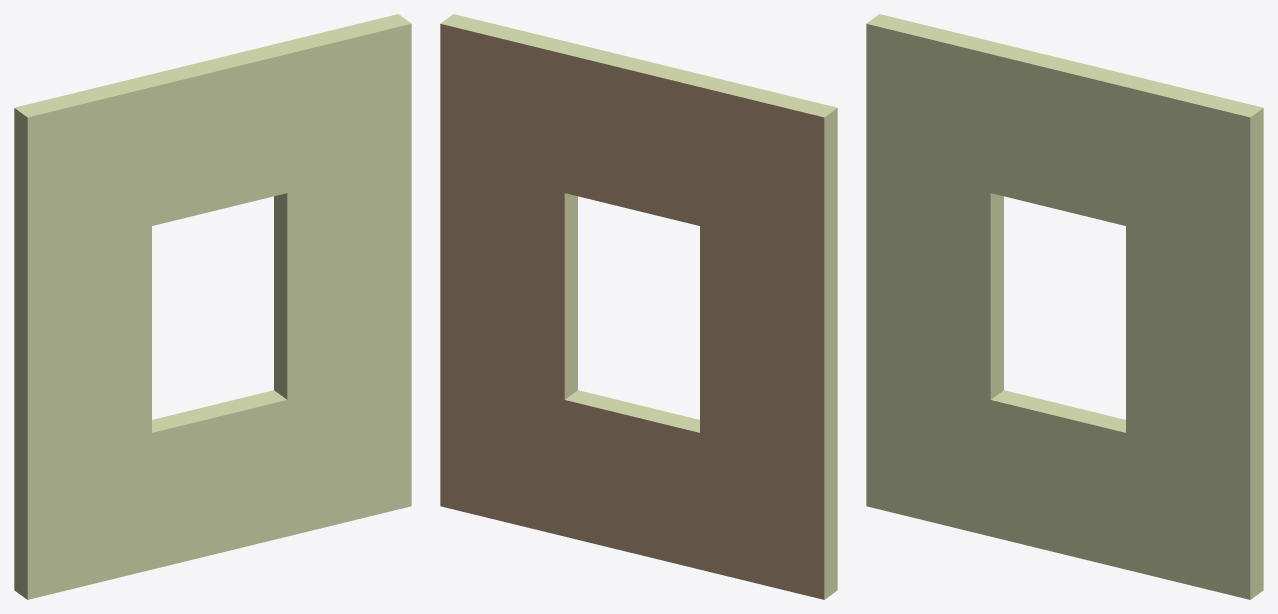
The model's file is Wall2_C5_03.fbx.
3 renders of one model, left to right at view 1: azimuth 30°, elevation 25°; view 2: azimuth 150°, elevation 25°; view 3: azimuth 330°, elevation 25°, orthographic.
Visible parts, largest first — view 1: Wall2_C5_03; view 2: Wall2_C5_03; view 3: Wall2_C5_03.
Part boxes in pixels (x1=…): Wall2_C5_03: x1=14, y1=14, x2=411, y2=599; Wall2_C5_03: x1=440, y1=14, x2=837, y2=599; Wall2_C5_03: x1=866, y1=14, x2=1263, y2=599.
Size of the model in its own units: 250 by 300 by 15.
